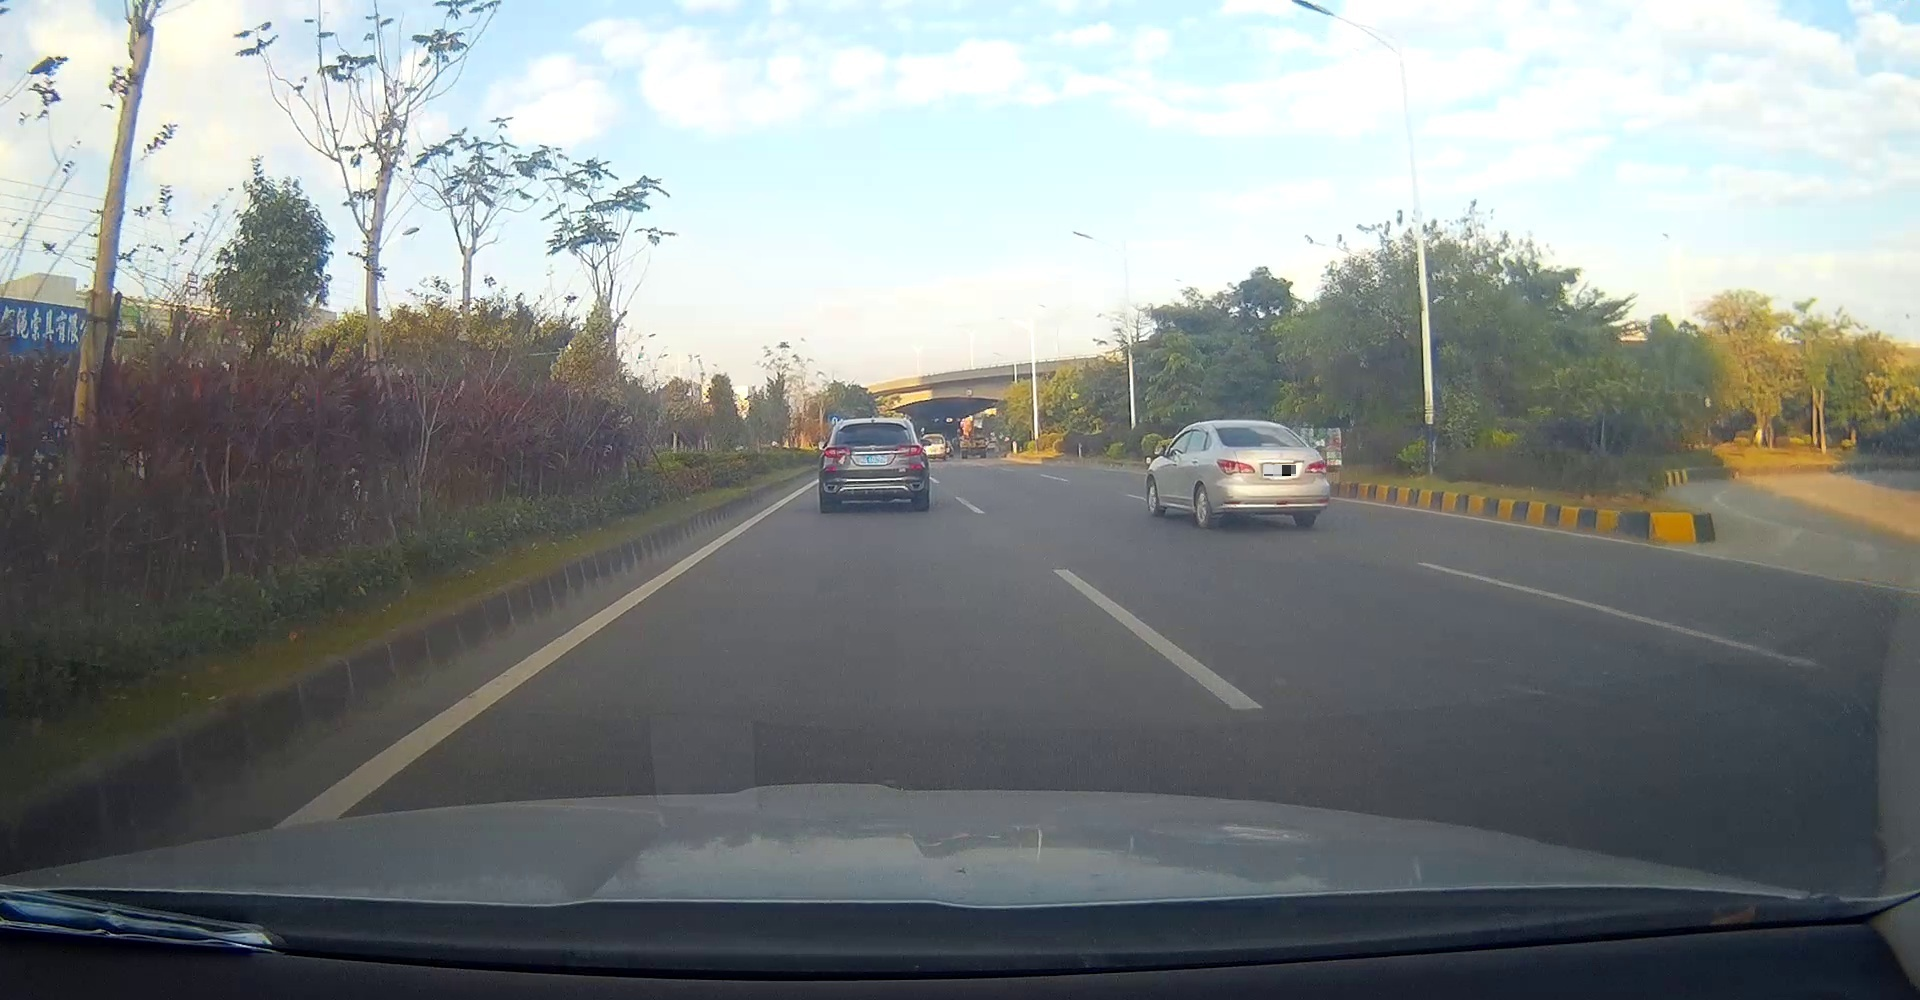L_light: (1217, 458, 1255, 475), (822, 445, 852, 458)
R_light: (1304, 459, 1327, 475), (897, 445, 923, 457)
T_light: (1258, 442, 1280, 448), (865, 420, 881, 426)
day-no: (1206, 420, 1328, 529), (820, 418, 927, 511)
plate_1: (1263, 464, 1297, 476)
